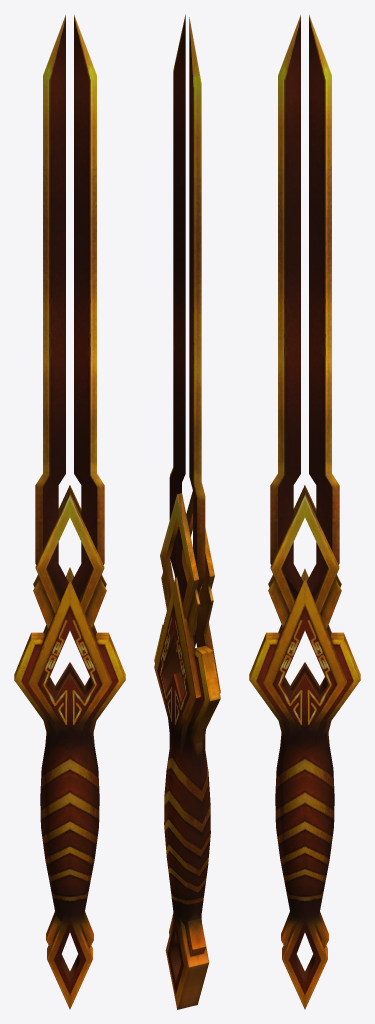
Rendered from yizidianjian.FBX.
The picture shows the model from 3 angles, left to right: view 1: azimuth 90°, elevation 25°; view 2: azimuth 210°, elevation 25°; view 3: azimuth 270°, elevation 25°; orthographic projection.
Parts seen in each view (by area): view 1: Object79; view 2: Object79; view 3: Object79.
Boxes of the visible parts, x1,y1,x2,y2 form: Object79: [14, 15, 125, 1009]; Object79: [154, 14, 220, 1009]; Object79: [249, 15, 360, 1009].
Size of the model in its own units: 3.88 by 96.75 by 9.87.
1 material, 1 textured.
